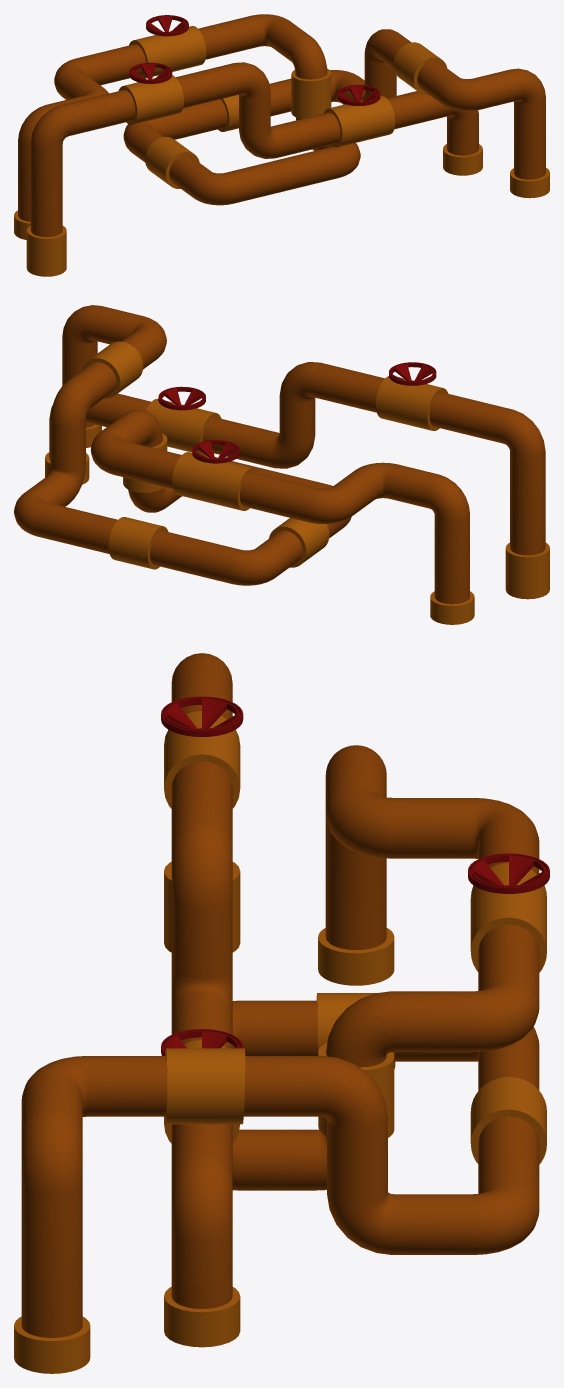
Rendered from Pipe.fbx.
The picture shows the model from 3 angles, top to bottom: view 1: azimuth 30°, elevation 25°; view 2: azimuth 150°, elevation 25°; view 3: azimuth 270°, elevation 25°; orthographic projection. The views are drawn at different scales.
Visible parts, largest first — view 1: Pipe; view 2: Pipe; view 3: Pipe.
Part boxes in pixels (x1=…): Pipe: x1=14, y1=14, x2=549, y2=276; Pipe: x1=14, y1=305, x2=549, y2=624; Pipe: x1=14, y1=653, x2=549, y2=1373.
Bounding box in the file's own units: 6.9 × 2.37 × 3.51.
